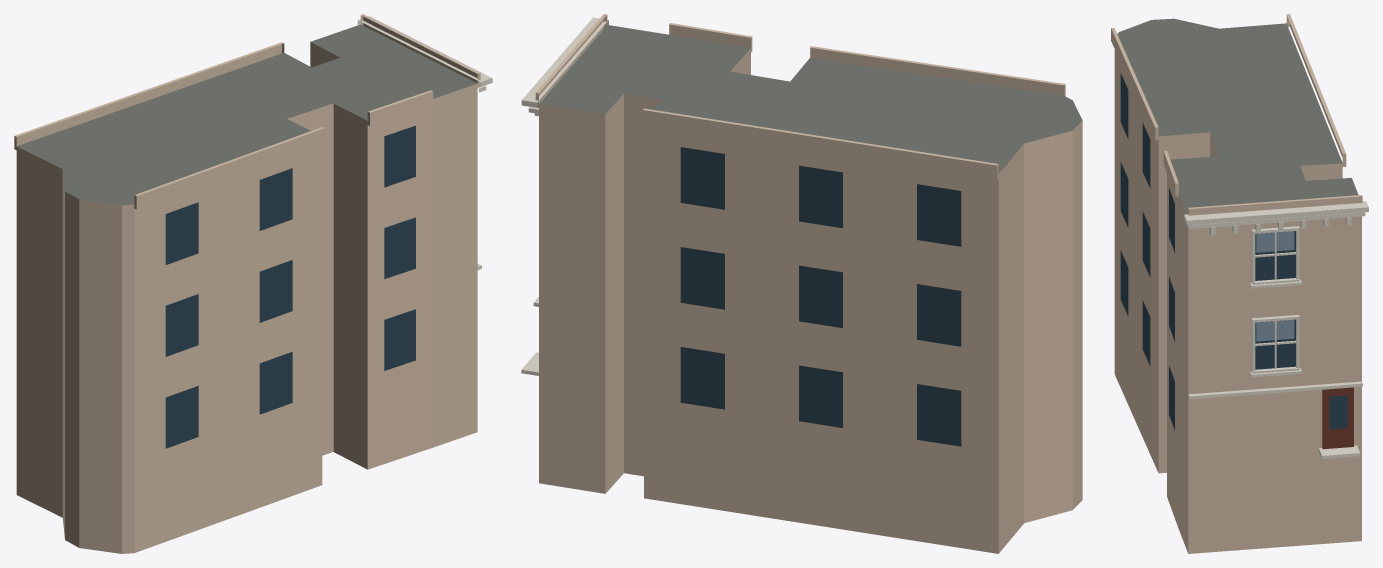
3 views of the same model, side by side, from view 1: azimuth 30°, elevation 25°; view 2: azimuth 150°, elevation 25°; view 3: azimuth 270°, elevation 25° (orthographic). The views are drawn at different scales.
Visible parts, largest first — view 1: Footprint 0 / surface 2, Footprint 0 / surface 1, Inset glazing, Facade bay volumes, Cornices and window frames; view 2: Footprint 0 / surface 2, Footprint 0 / surface 1, Inset glazing, Facade bay volumes, Cornices and window frames; view 3: Footprint 0 / surface 2, Footprint 0 / surface 1, Cornices and window frames, Inset glazing, Facade bay volumes, Sky reflection panels, Storefronts and doors.
Boxes of the visible parts, x1,y1,x2,y2 form: Footprint 0 / surface 2: [16, 42, 477, 553]; Footprint 0 / surface 1: [17, 24, 477, 205]; Inset glazing: [165, 125, 415, 448]; Facade bay volumes: [14, 14, 480, 209]; Cornices and window frames: [357, 16, 492, 269]; Footprint 0 / surface 2: [539, 48, 1082, 553]; Footprint 0 / surface 1: [539, 25, 1082, 173]; Inset glazing: [680, 147, 961, 446]; Facade bay volumes: [535, 14, 1065, 180]; Cornices and window frames: [521, 17, 608, 375]; Footprint 0 / surface 2: [1114, 49, 1361, 553]; Footprint 0 / surface 1: [1117, 18, 1358, 214]; Cornices and window frames: [1184, 201, 1368, 458]; Inset glazing: [1120, 73, 1347, 430]; Facade bay volumes: [1111, 14, 1362, 215]; Sky reflection panels: [1256, 231, 1294, 341]; Storefronts and doors: [1322, 387, 1353, 449].
Size of the model in its own units: 16.83 by 13.27 by 8.95.
